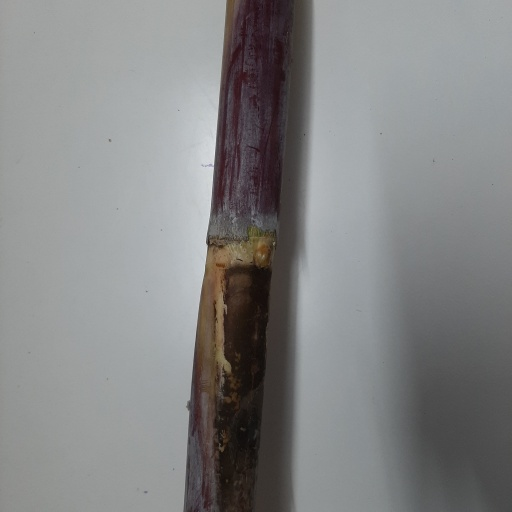Bud: (254, 242, 274, 270)
